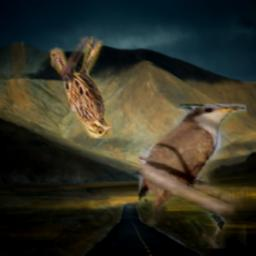Cuckoo: (138, 105, 245, 250)
Sparrow: (50, 37, 111, 139)
